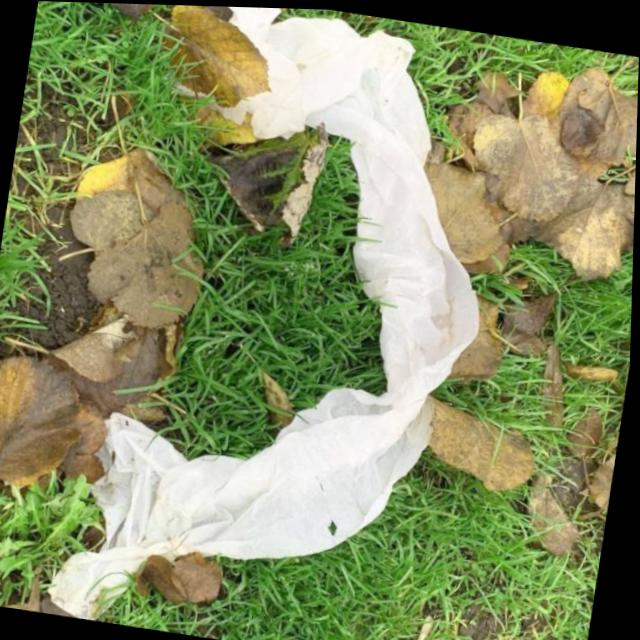Paper: (44, 1, 522, 640)
